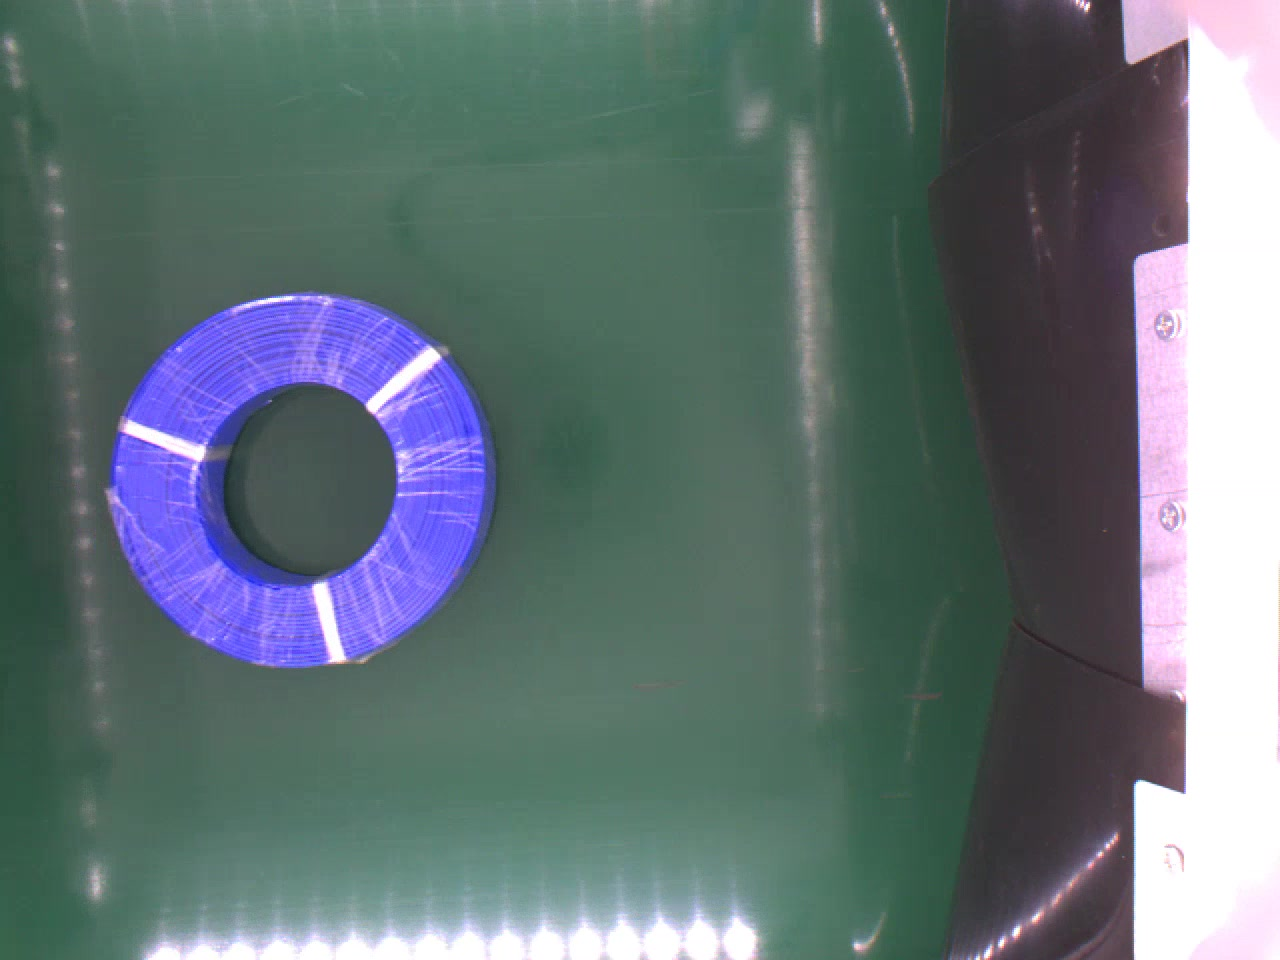blue: (105, 292, 499, 670)
